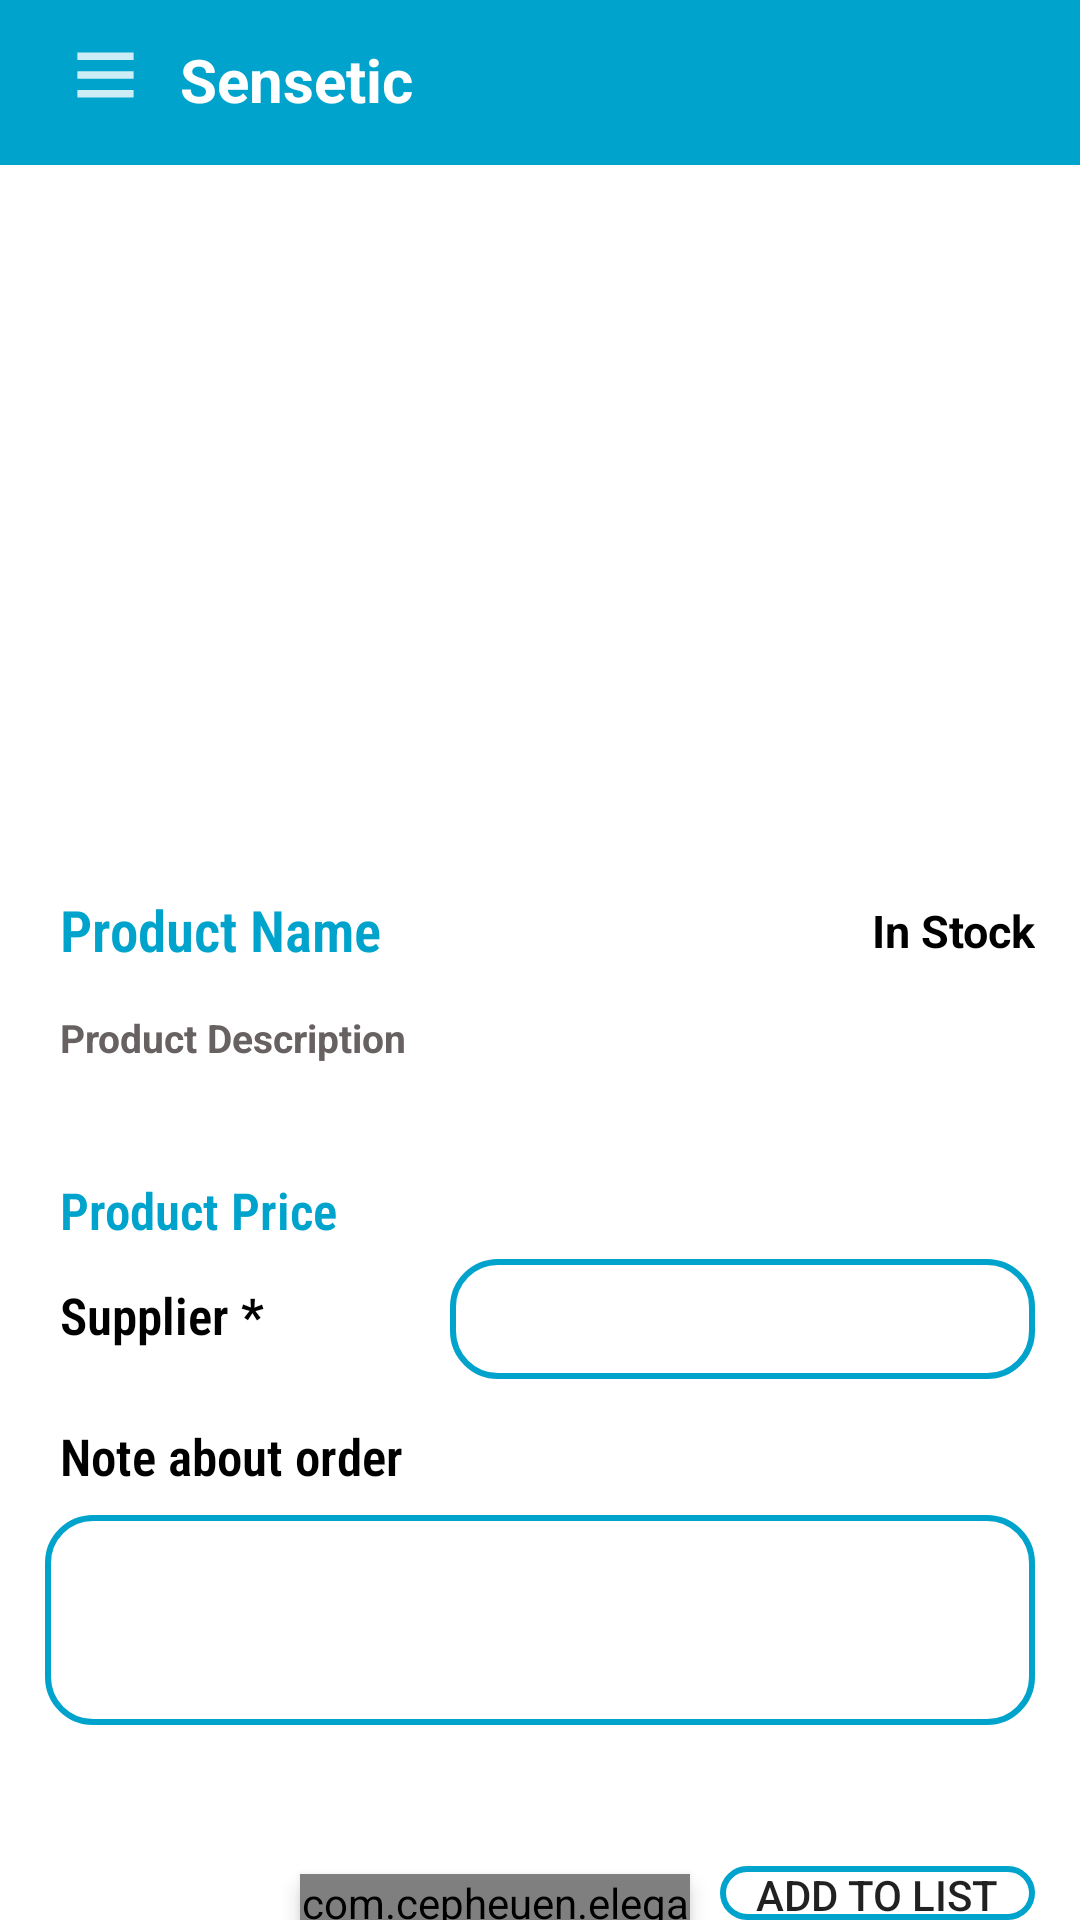

Where icons sit on this 1080x1920 app screen, as (x1, y1, x2, y2):
menu: (77, 52, 134, 98)
